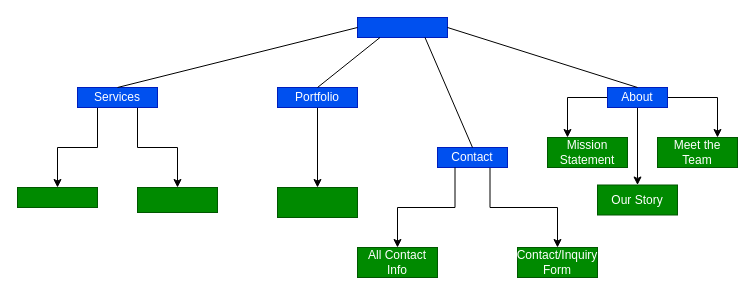
This 755x295 diagram has some shape labels left out. The centre of each missing label's shape, as x and y in pixels:
Home/Index: pixel 402 27
Our Clients: pixel 177 199
Pricing: pixel 57 197
Showcase Videos: pixel 317 202
